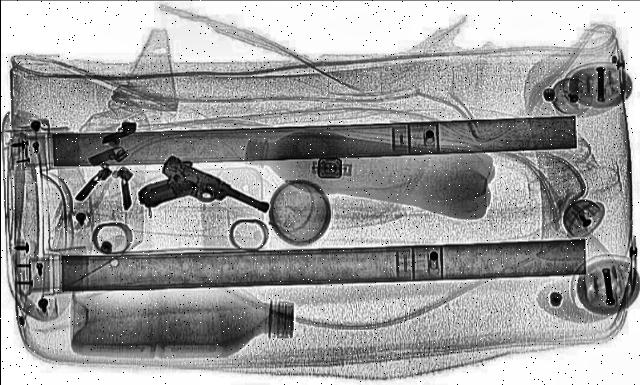Gun: (112, 152, 282, 241)
